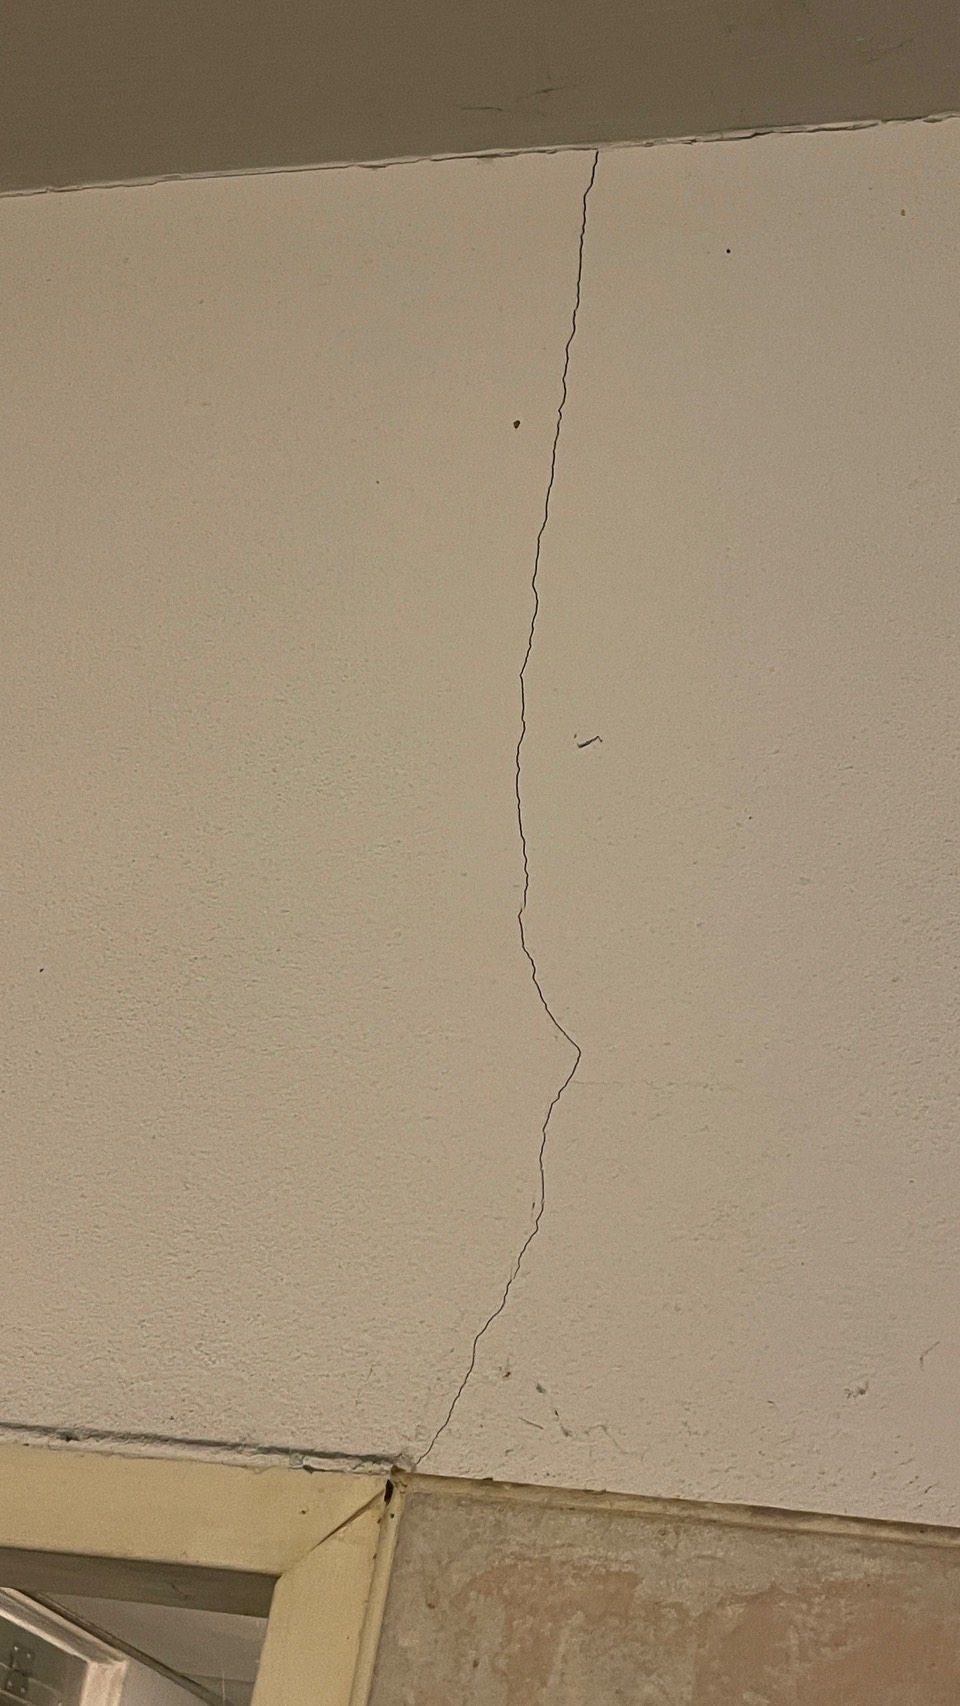Low: (380, 153, 632, 1480)
